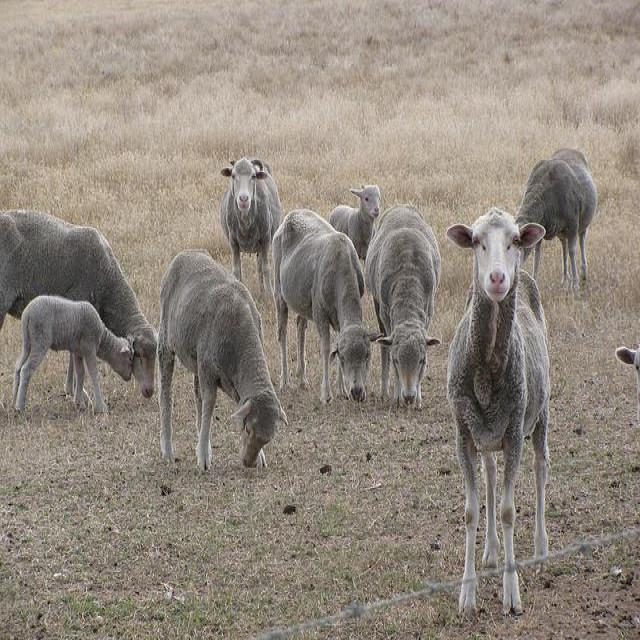Sheep: (444, 207, 551, 622), (0, 212, 159, 405), (154, 245, 287, 475), (270, 207, 383, 405), (365, 203, 446, 409), (9, 299, 132, 429), (515, 145, 603, 299), (219, 159, 282, 297), (327, 184, 384, 263)
